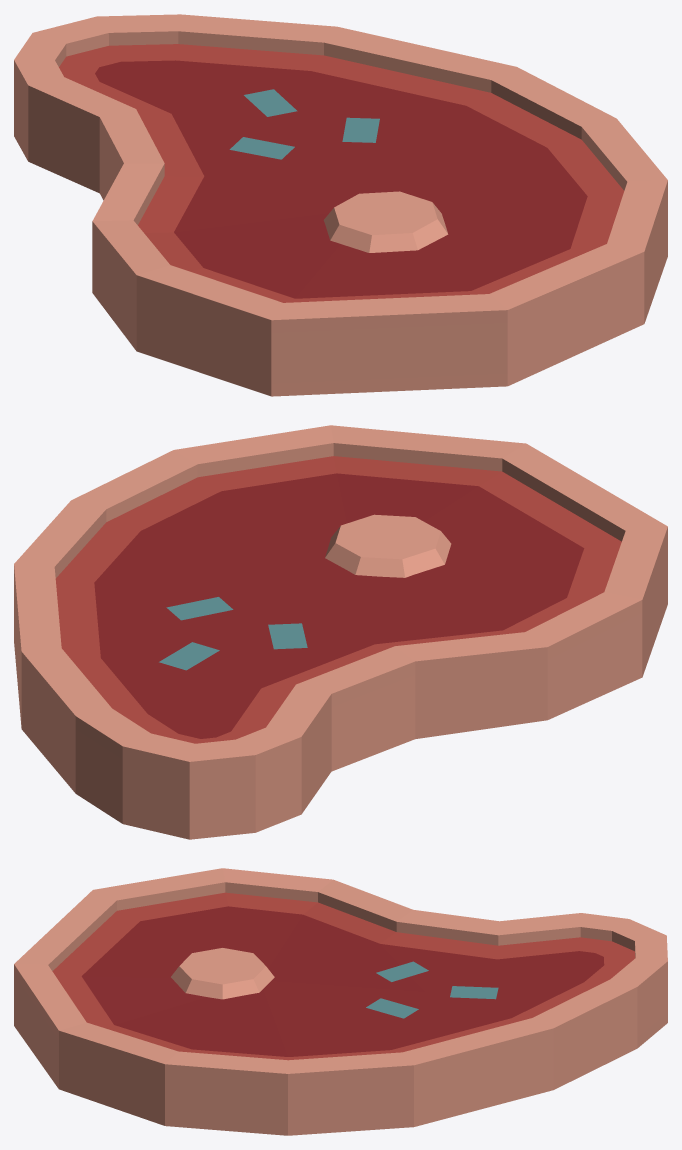
Rendered from Meat_Slice_03.fbx.
3 views of the same model, one above another, from view 1: azimuth 30°, elevation 25°; view 2: azimuth 150°, elevation 25°; view 3: azimuth 270°, elevation 25° (orthographic). The views are drawn at different scales.
Parts seen in each view (by area): view 1: Meat_Slice; view 2: Meat_Slice; view 3: Meat_Slice.
Boxes of the visible parts, x1=… form: Meat_Slice: x1=14, y1=14, x2=667, y2=396; Meat_Slice: x1=14, y1=425, x2=667, y2=839; Meat_Slice: x1=14, y1=868, x2=667, y2=1135.
Size of the model in its own units: 287 by 41.06 by 385.
